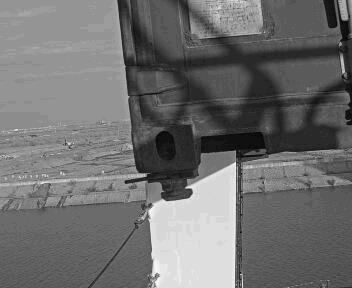twist_lock_1: (187, 157, 247, 204)
